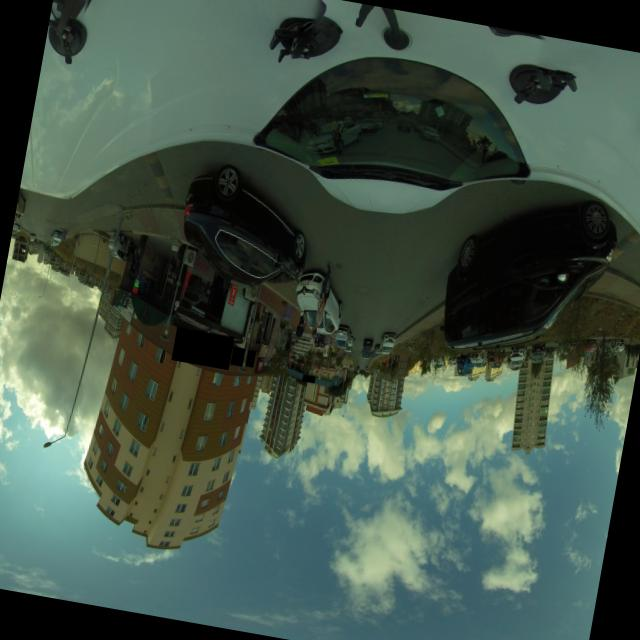SignStore: (172, 325, 231, 368), (229, 345, 244, 363), (244, 348, 255, 366), (301, 373, 314, 382)
